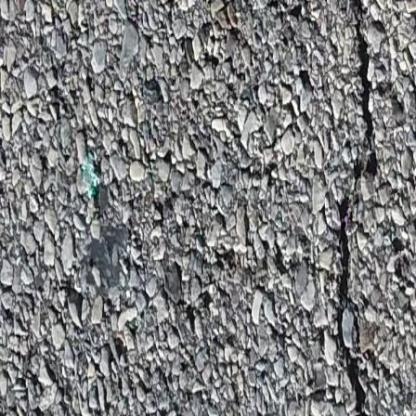Cracks: (310, 1, 416, 416)
